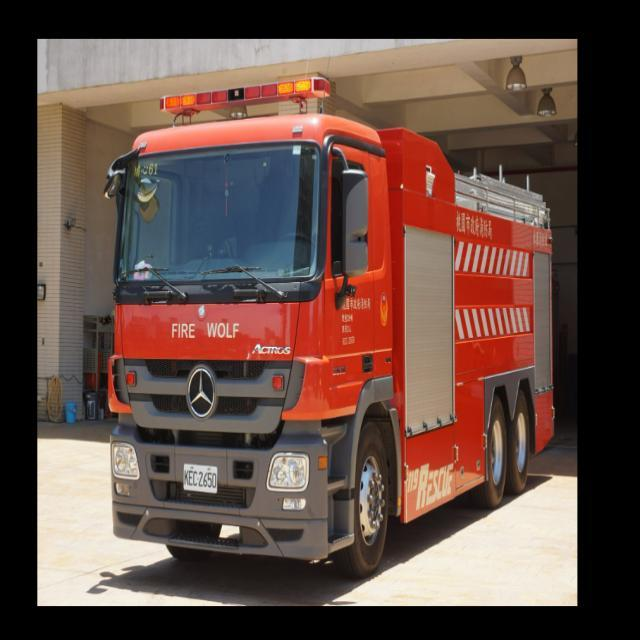ambulance: (70, 56, 540, 565)
